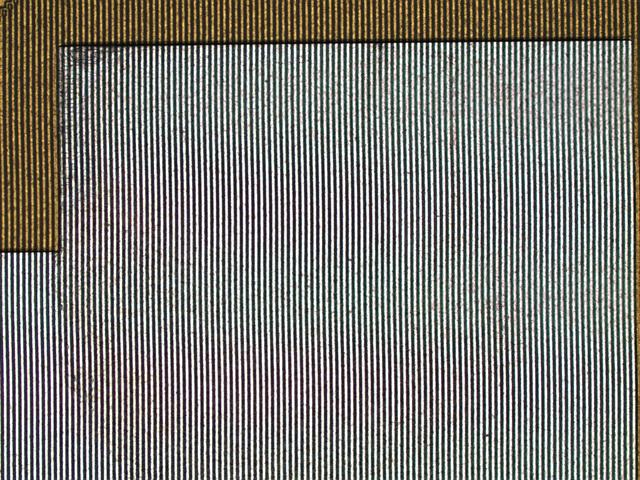SEZ BURNT: (1, 1, 640, 480)
